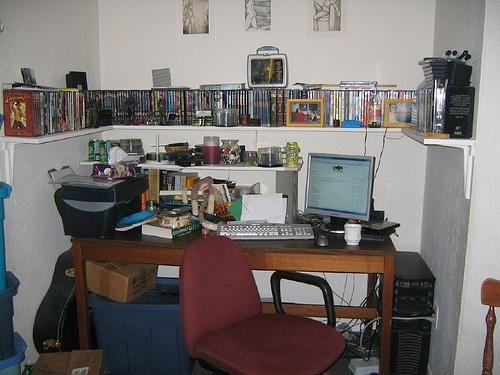chair: (181, 234, 344, 375)
tvmonitor: (301, 151, 376, 232)
